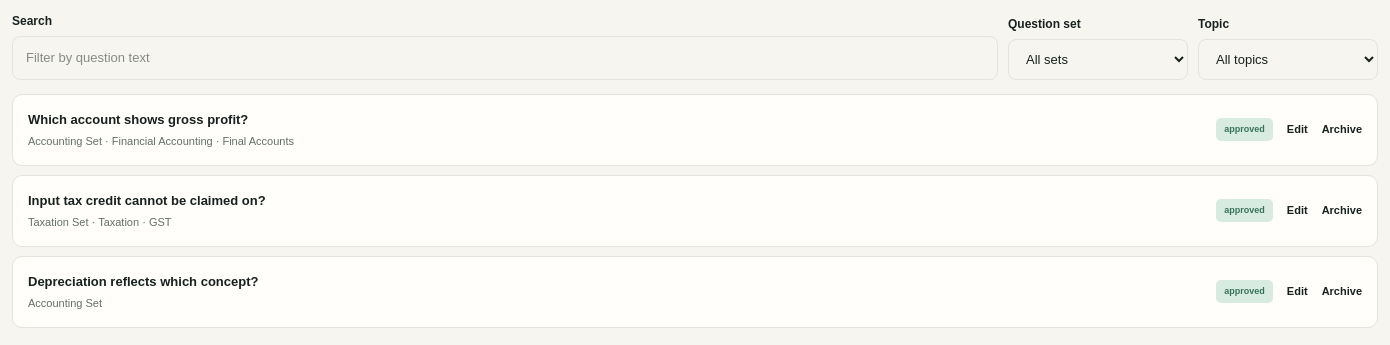
Test: QuestionBankList › filters by topic
This screenshot has width=1390, height=345.
Select "Final Accounts" in the dropdown labelled "Topic" at x=1288, y=59, box [1198,38,1378,80]
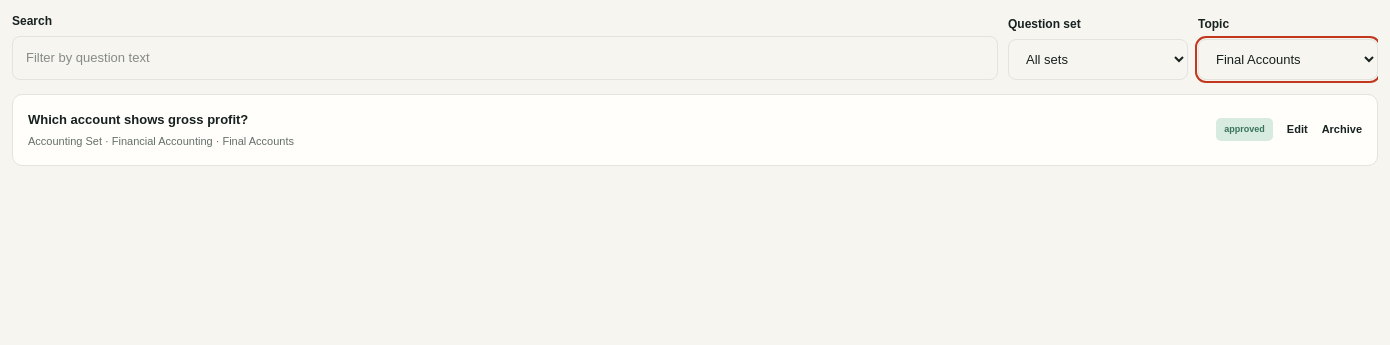
Expected: the text "Which account shows gross profit?" is shown, [28,112,248,126]
Now the text "Input tax credit" is gone
